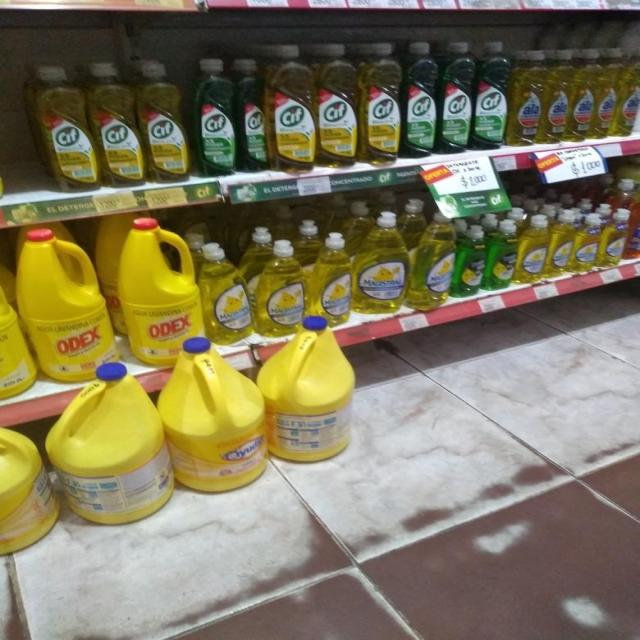ala_conc_amarillo: (511, 49, 543, 148), (544, 48, 570, 145), (571, 48, 595, 142), (596, 47, 618, 140), (618, 47, 640, 138)
cif_conc_bot_amarilla: (35, 64, 92, 194), (269, 44, 315, 174), (94, 61, 140, 188), (142, 60, 188, 185), (317, 43, 358, 169), (360, 41, 400, 166), (557, 599, 640, 640)
cif_conc_botella_verde: (192, 57, 235, 178), (403, 40, 437, 160), (439, 39, 473, 156), (236, 56, 268, 175), (475, 40, 508, 151)
magistral_con_amarillo: (355, 211, 407, 315), (203, 242, 252, 344), (256, 237, 304, 338), (411, 208, 454, 310), (309, 232, 352, 329), (518, 214, 548, 284), (549, 210, 573, 277), (601, 210, 627, 268), (574, 214, 599, 272)
